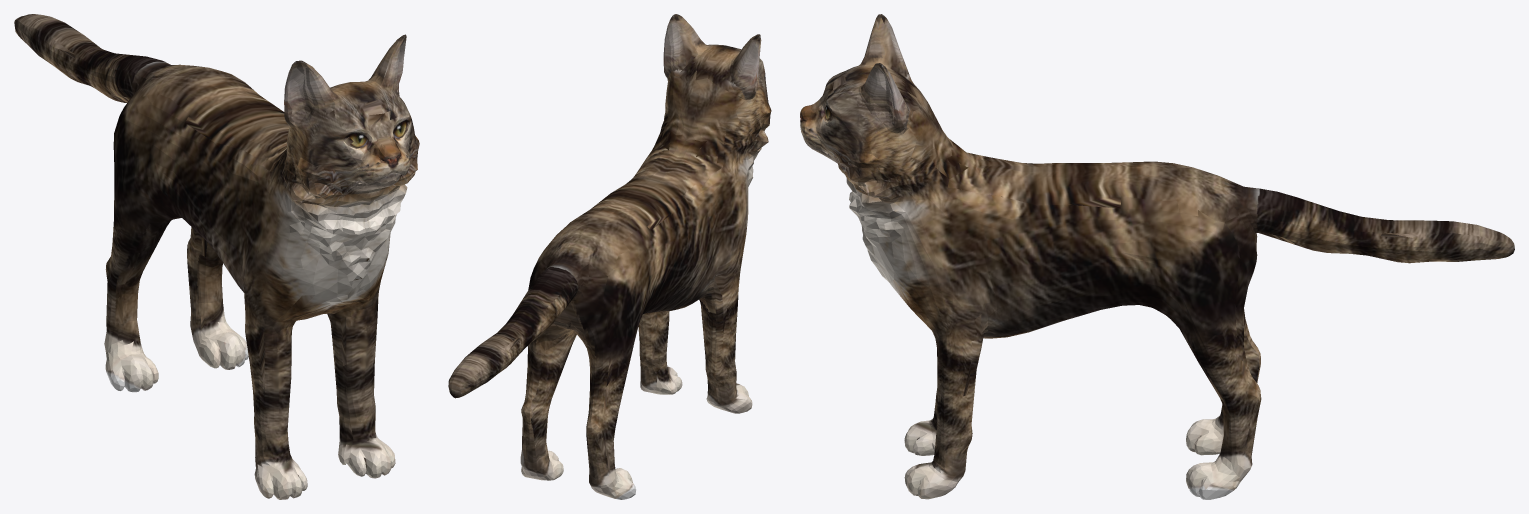
The model's file is Chat.glb.
3 views of the same model, side by side, from view 1: azimuth 30°, elevation 25°; view 2: azimuth 150°, elevation 25°; view 3: azimuth 270°, elevation 25° (orthographic). The views are drawn at different scales.
Visible parts, largest first — view 1: Cat_Base_1.002; view 2: Cat_Base_1.002; view 3: Cat_Base_1.002.
Part boxes in pixels (<box>): Cat_Base_1.002: <box>14,14,419,499</box>; Cat_Base_1.002: <box>448,14,771,499</box>; Cat_Base_1.002: <box>800,14,1514,499</box>.
Size of the model in its own units: 1.34 by 4.26 by 6.38.
1 material, 1 textured.
